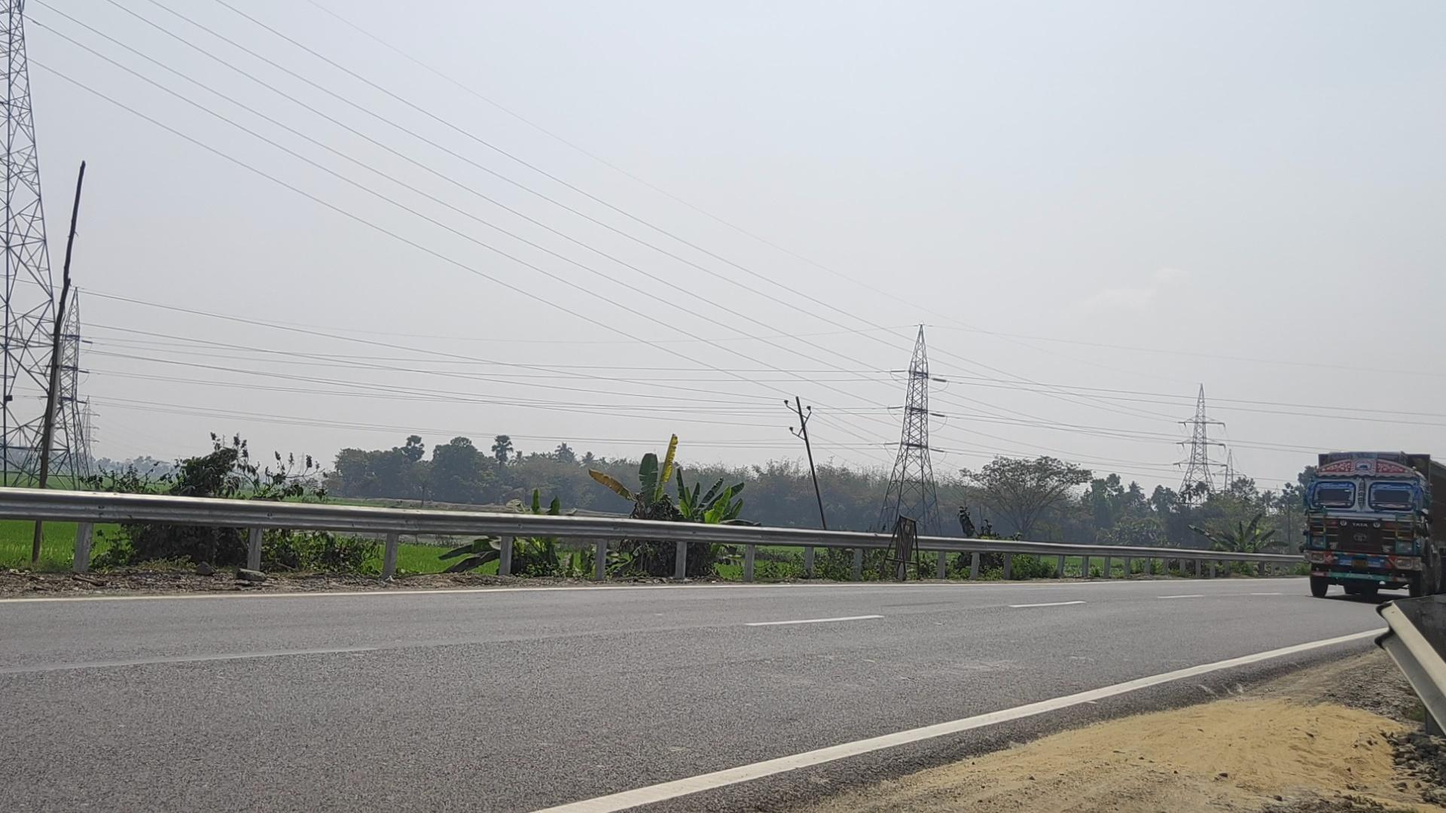truck: (1302, 449, 1446, 602)
